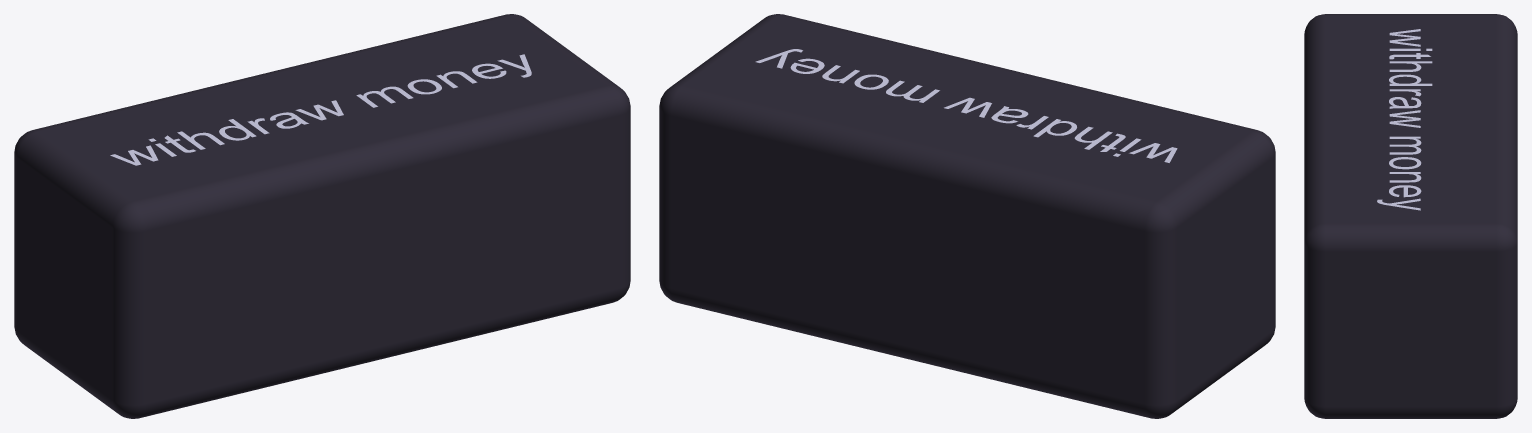
File: withdraw_money.glb
3 renders of one model, left to right at view 1: azimuth 30°, elevation 25°; view 2: azimuth 150°, elevation 25°; view 3: azimuth 270°, elevation 25°, orthographic. The views are drawn at different scales.
Parts seen in each view (by area): view 1: Cut, Extrude; view 2: Cut, Extrude; view 3: Cut, Extrude.
Part boxes in pixels (box(x1,y1,x2,y2)): Cut: box(14, 14, 630, 418); Extrude: box(110, 54, 531, 165); Cut: box(659, 14, 1275, 418); Extrude: box(755, 49, 1177, 162); Cut: box(1304, 14, 1517, 418); Extrude: box(1377, 29, 1432, 210).
Size of the model in its own units: 5 by 2 by 2.
